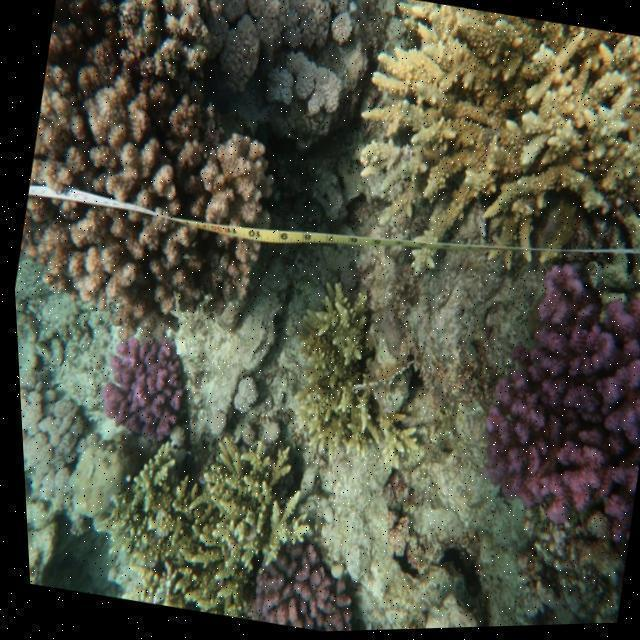Healthy Coral: (452, 249, 640, 554), (92, 321, 193, 447), (236, 536, 363, 635)
